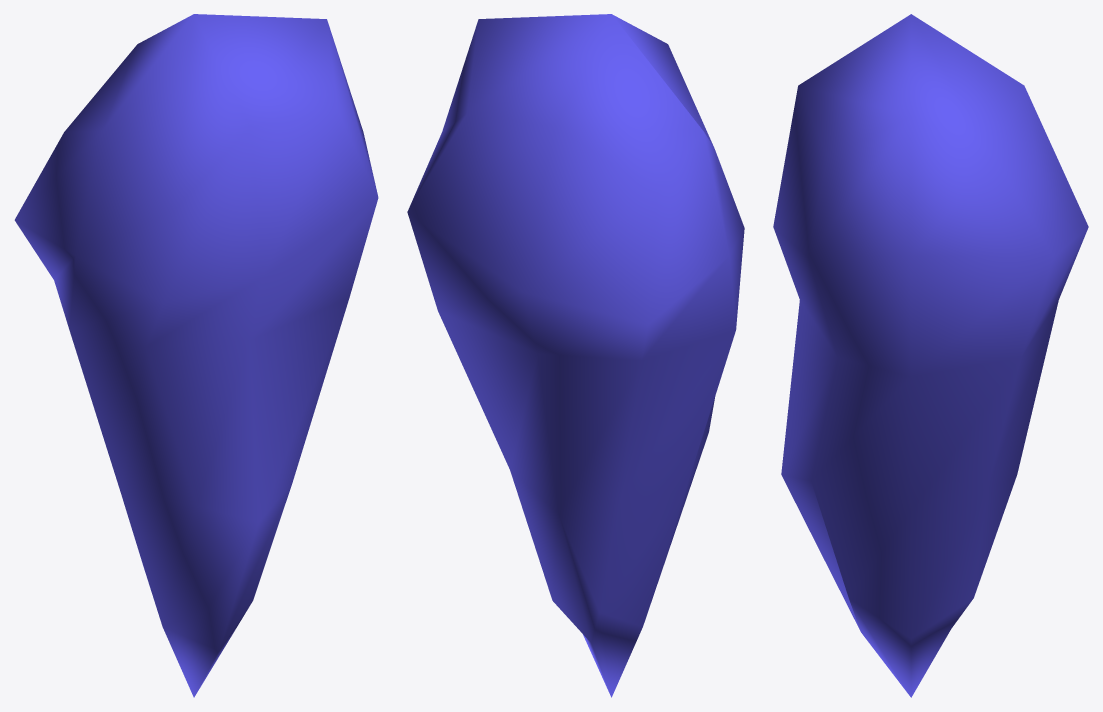
File: MagicStone.fbx
3 renders of one model, left to right at view 1: azimuth 30°, elevation 25°; view 2: azimuth 150°, elevation 25°; view 3: azimuth 270°, elevation 25°, orthographic.
Visible parts, largest first — view 1: MaginStone; view 2: MaginStone; view 3: MaginStone.
Part boxes in pixels (left/top/right/bottom): MaginStone: left=14, top=14, right=378, bottom=697; MaginStone: left=407, top=14, right=744, bottom=697; MaginStone: left=773, top=14, right=1088, bottom=697.
Bounding box in the file's own units: 16.04 × 35.66 × 14.91.
